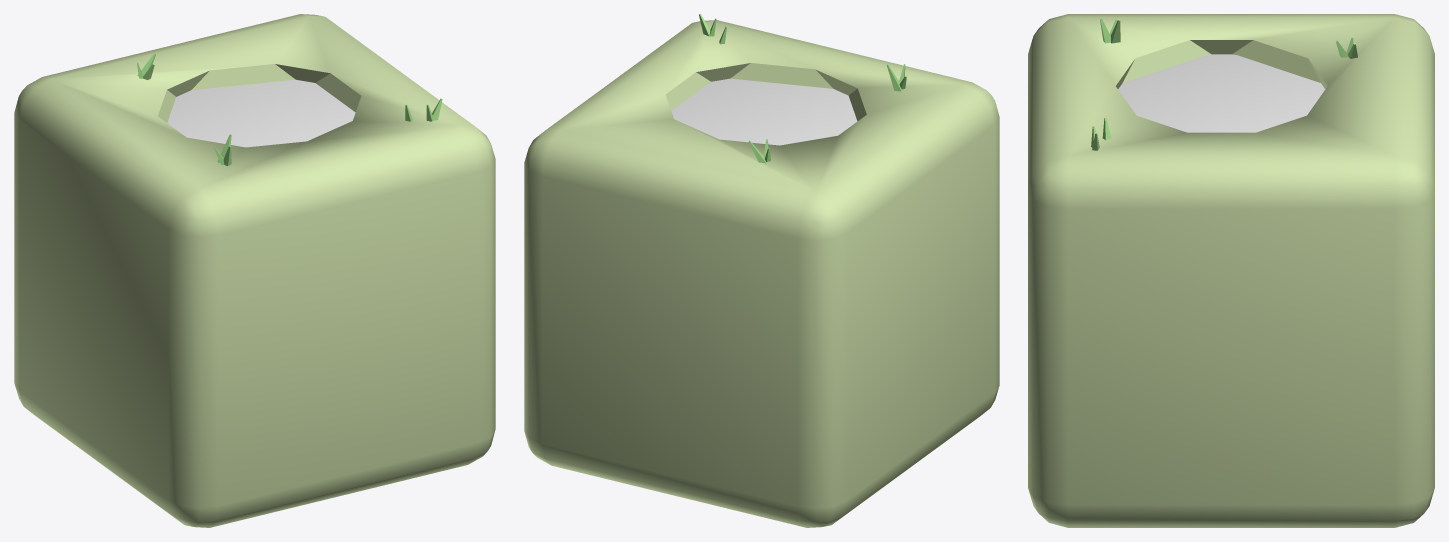
The model's file is pond3.fbx.
The picture shows the model from 3 angles, left to right: view 1: azimuth 30°, elevation 25°; view 2: azimuth 150°, elevation 25°; view 3: azimuth 270°, elevation 25°; orthographic projection. The views are drawn at different scales.
Parts seen in each view (by area): view 1: Cube.082, Cube.081; view 2: Cube.082, Cube.081; view 3: Cube.082, Cube.081.
Boxes of the visible parts, x1=… form: Cube.082: x1=14, y1=14, x2=495, y2=527; Cube.081: x1=167, y1=79, x2=355, y2=147; Cube.082: x1=524, y1=20, x2=999, y2=527; Cube.081: x1=671, y1=78, x2=857, y2=145; Cube.082: x1=1028, y1=14, x2=1434, y2=527; Cube.081: x1=1118, y1=54, x2=1325, y2=132.
Size of the model in its own units: 200 by 214 by 200.
